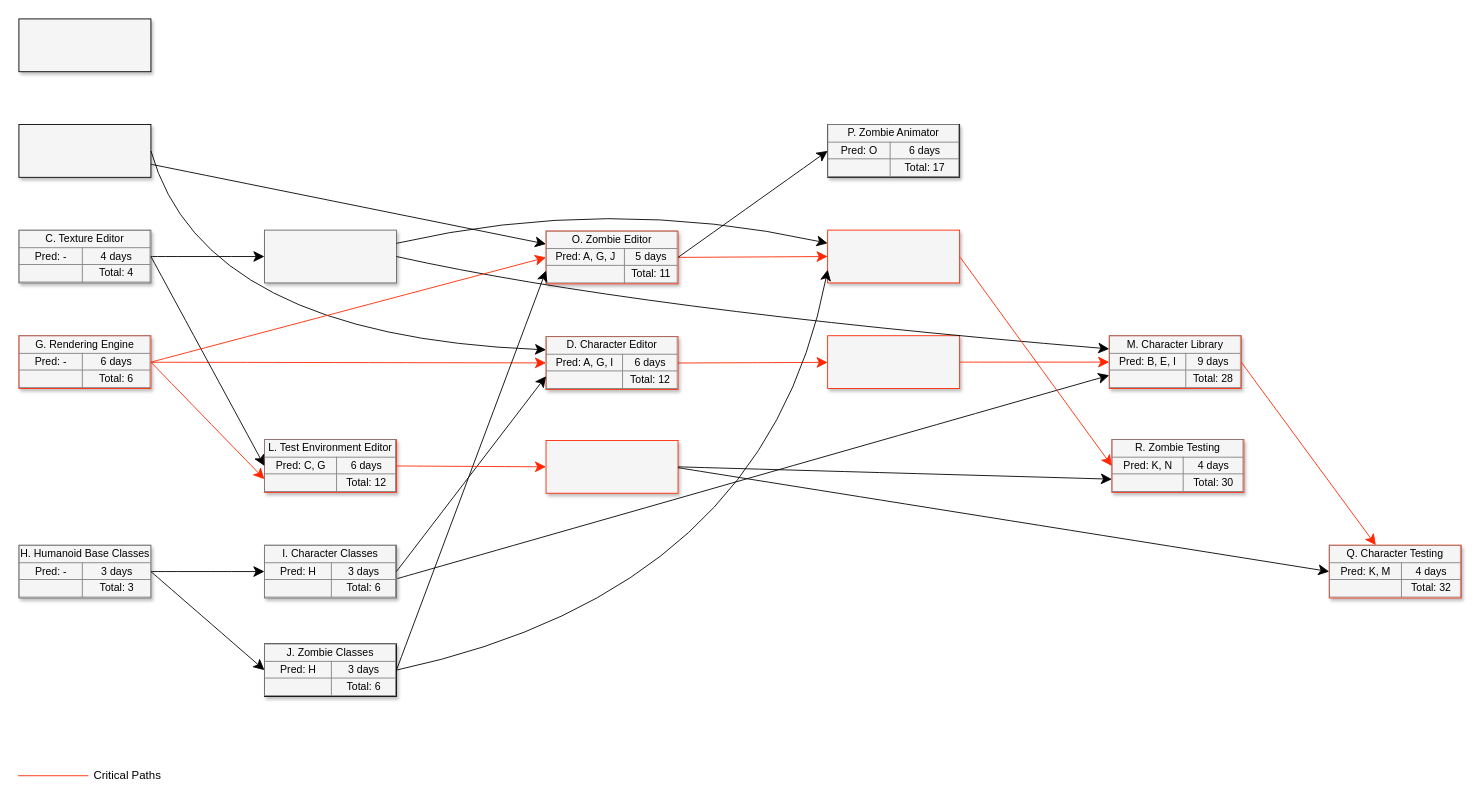
This 1482x805 diagram has some shape labels left out. The centre of each missing label's shape, as x and y in pixels:
"A. Robotic Control Module Pred: - 5 days Total: 5" belongs at (85,151).
"B. Texture Library Pred: C 5 days Total: 9" belongs at (331,257).
"E. Character Animator Pred: D 7 days Total: 19" belongs at (894,363).
"F. Artificial Intelligence Pred: - 7 days Total: 7" belongs at (85,46).
"K. Test Environment Pred: L 5 days Total: 17" belongs at (612,467).
"N. Zombie Library Pred: B, J, O 15 days Total: 26" belongs at (894,257).
